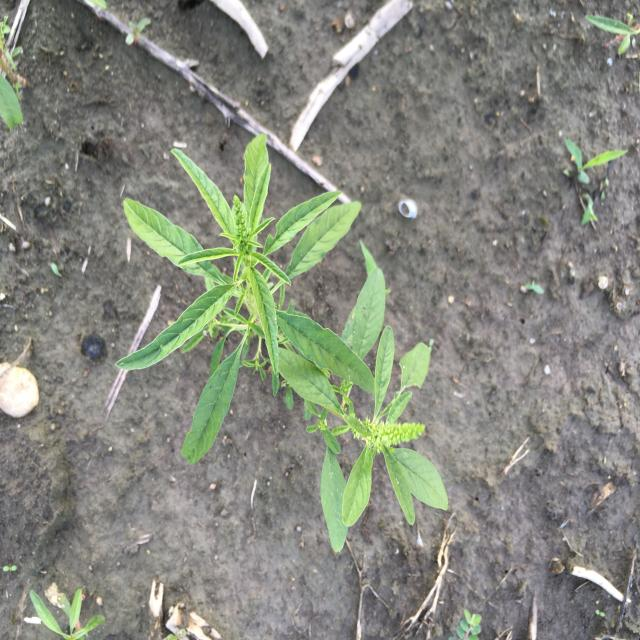SpottedSpurge: (450, 607, 484, 639)
Waterhemp: (113, 132, 450, 555), (27, 586, 106, 640)
